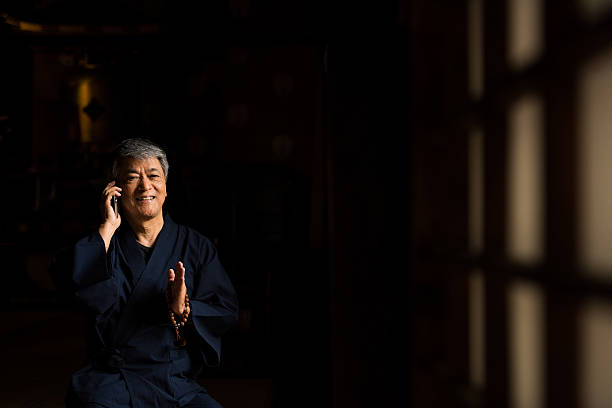phone: (100, 180, 122, 223)
talk: (89, 165, 169, 236)
